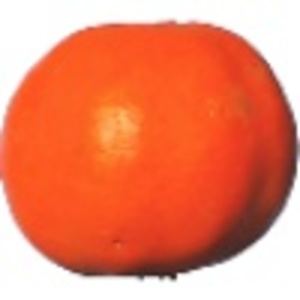tangerina: (1, 18, 300, 280)
